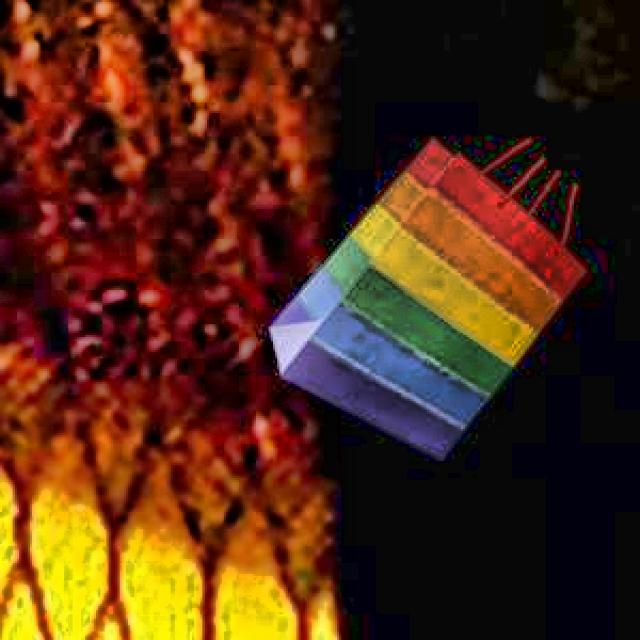Paper-bag: (268, 117, 604, 457)
